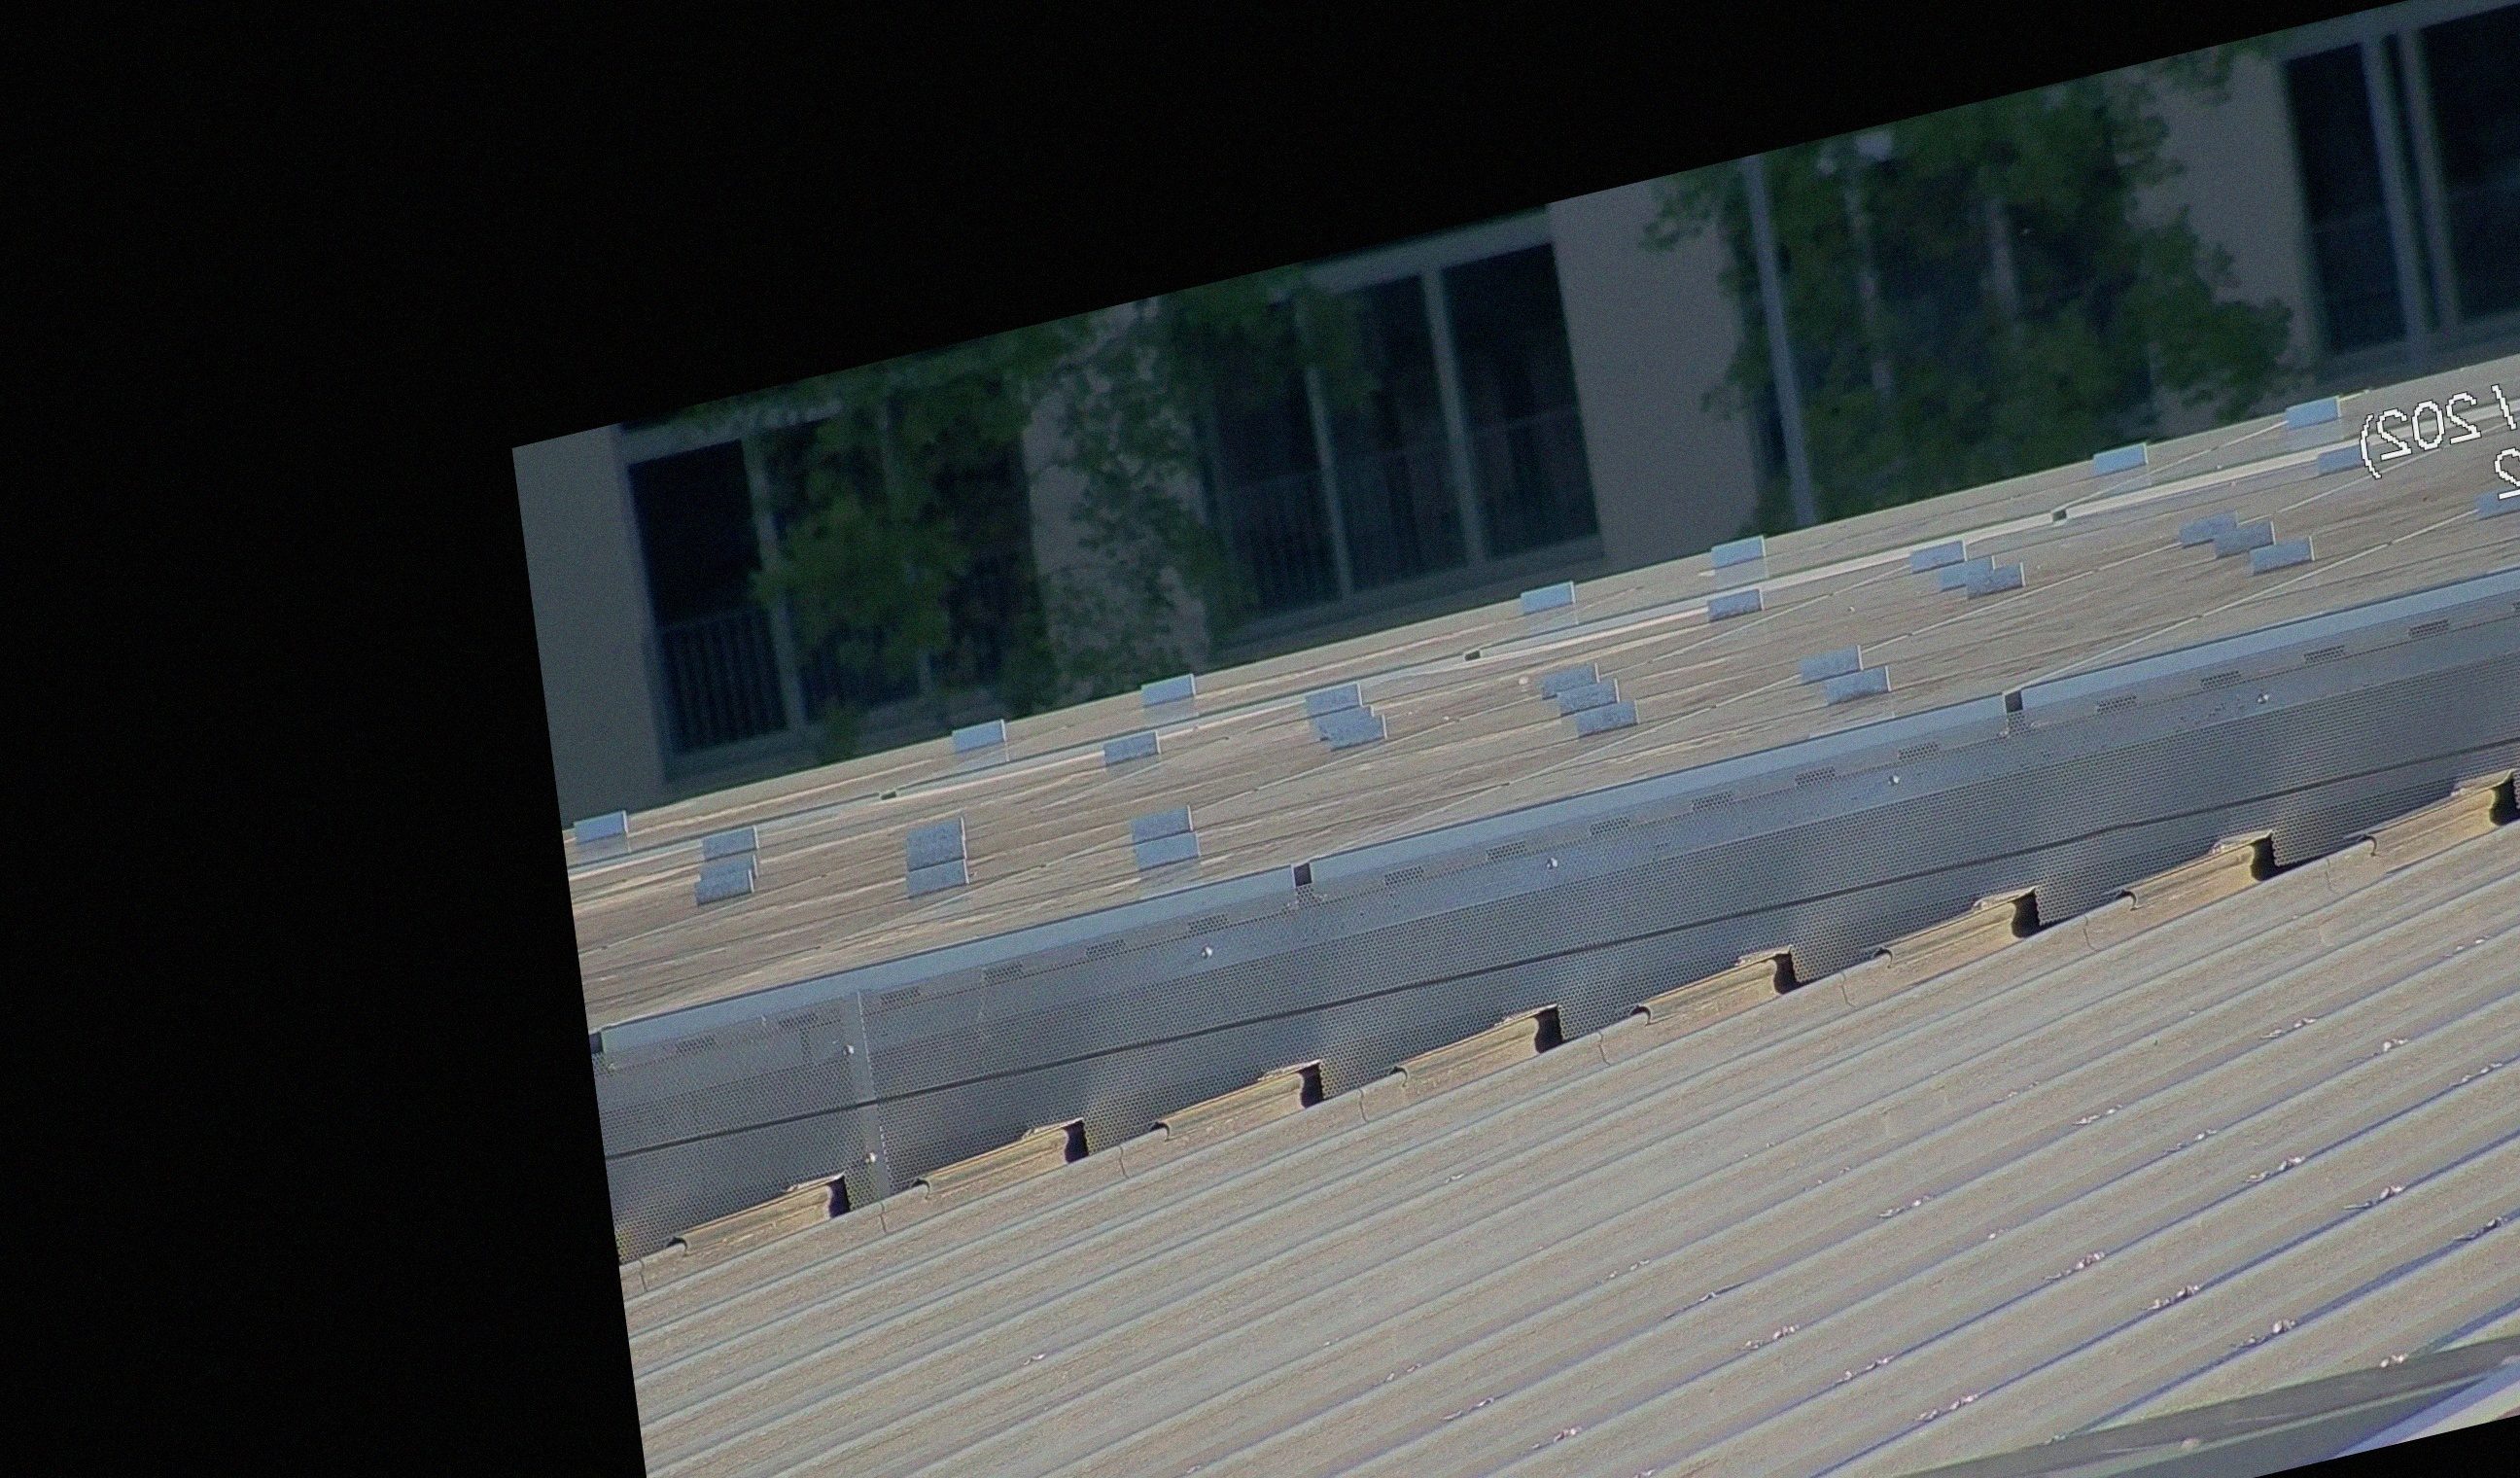Other: (2490, 750, 2520, 829)
